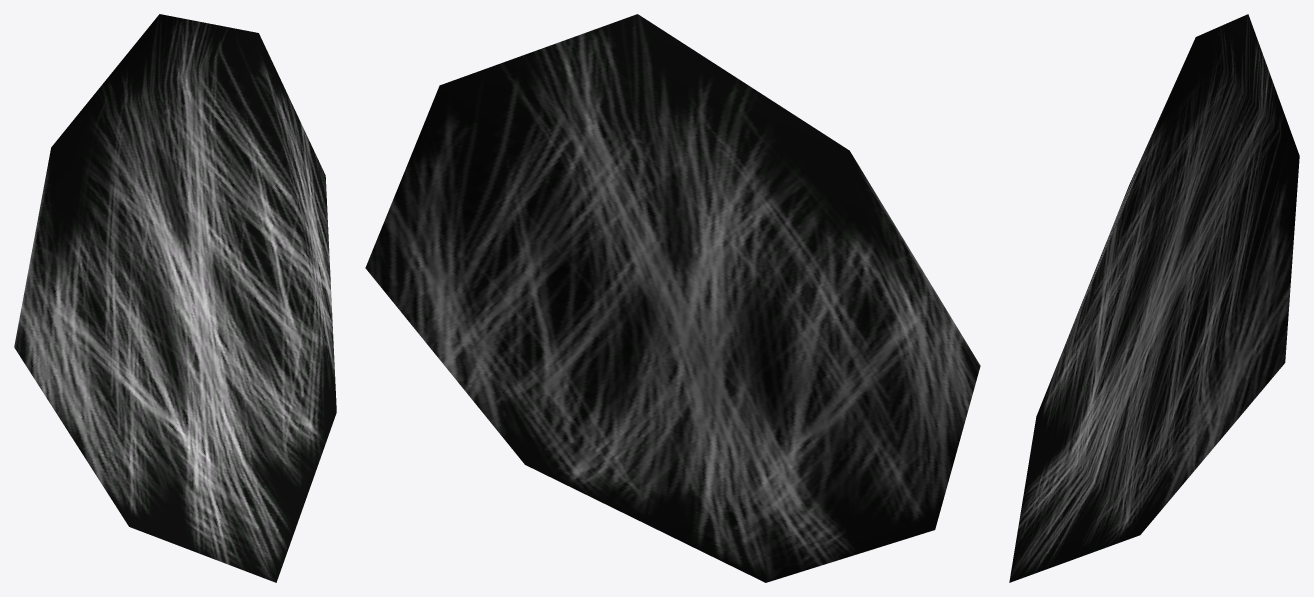
The model's file is MIRKWOOD_SPIDERWEB_COVERS15.fbx.
3 renders of one model, left to right at view 1: azimuth 30°, elevation 25°; view 2: azimuth 150°, elevation 25°; view 3: azimuth 270°, elevation 25°, orthographic. The views are drawn at different scales.
Parts seen in each view (by area): view 1: MIRKWOOD_SPIDERWEB_COVERS15; view 2: MIRKWOOD_SPIDERWEB_COVERS15; view 3: MIRKWOOD_SPIDERWEB_COVERS15.
Part boxes in pixels (x1,y1,x2,y2): MIRKWOOD_SPIDERWEB_COVERS15: (14, 14, 336, 582); MIRKWOOD_SPIDERWEB_COVERS15: (365, 14, 980, 582); MIRKWOOD_SPIDERWEB_COVERS15: (1009, 14, 1299, 582).
Bounding box in the file's own units: 14595 × 18154 × 8495.
Materials: 1 (1 with a texture image).
